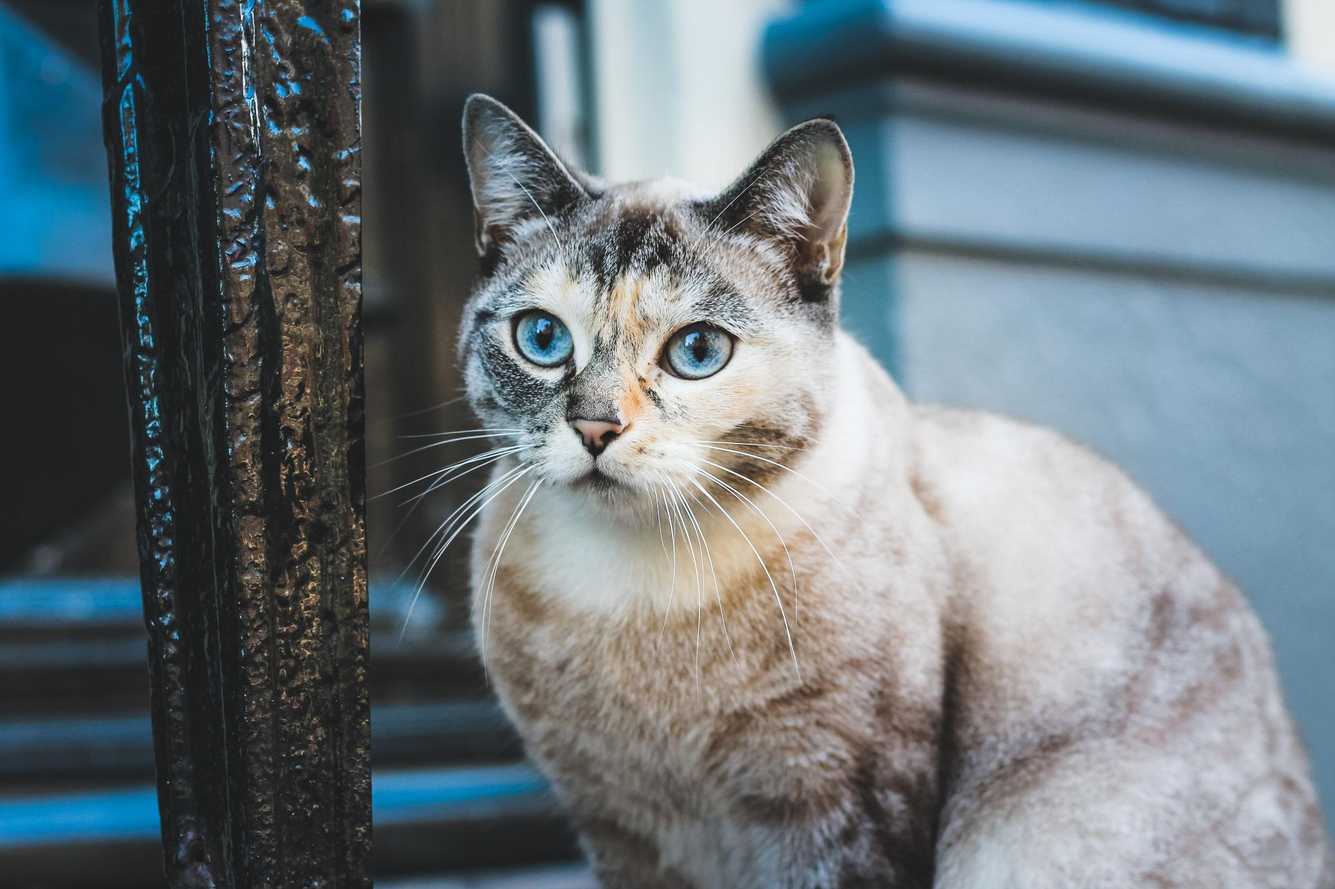cat: (361, 91, 1333, 887)
